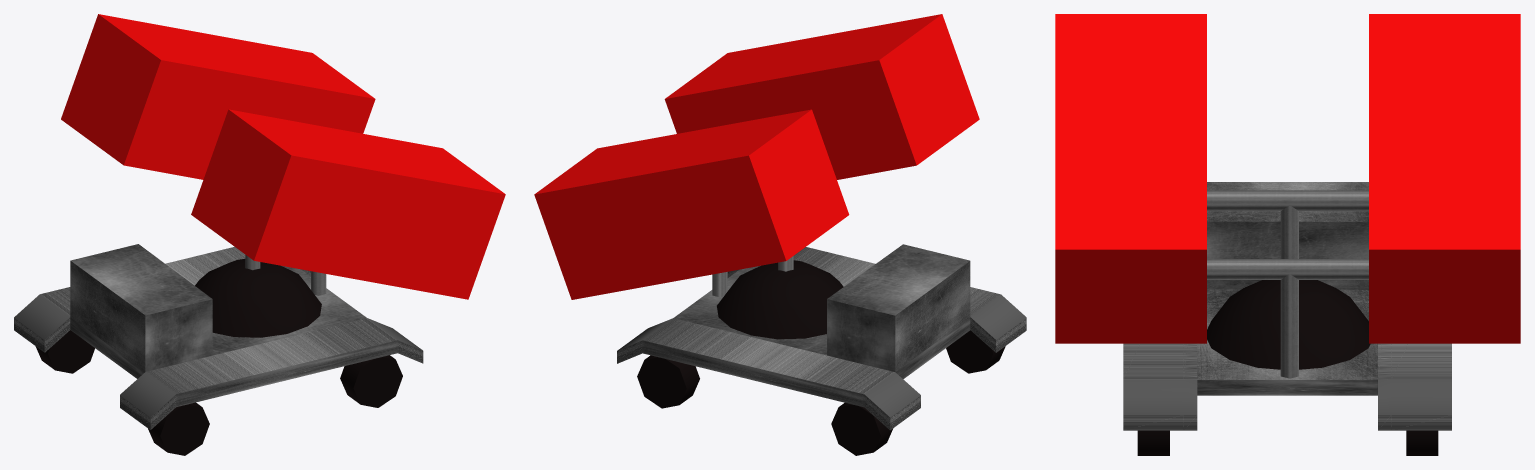
The model's file is launcher.obj.
The picture shows the model from 3 angles, left to right: view 1: azimuth 30°, elevation 25°; view 2: azimuth 150°, elevation 25°; view 3: azimuth 270°, elevation 25°; orthographic projection. The views are drawn at different scales.
Bounding box in the file's own units: 2.26 × 2.03 × 2.32.
Materials: 4 (2 with a texture image).
